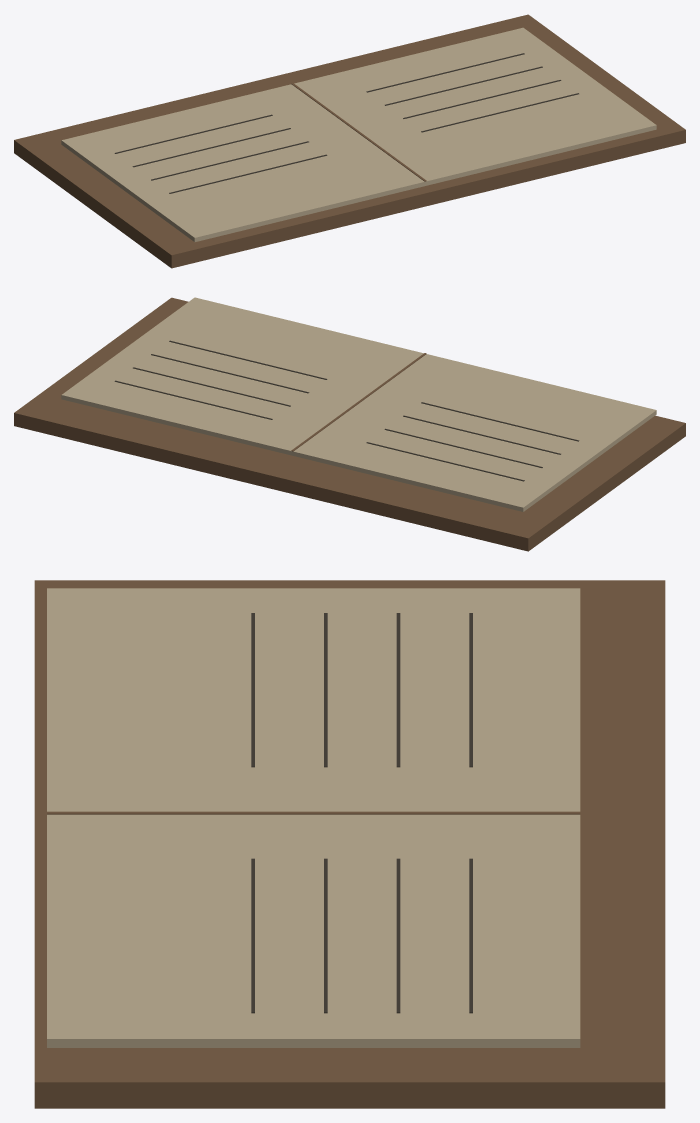
File: station_merrow.glb
3 views of the same model, one above another, from view 1: azimuth 30°, elevation 25°; view 2: azimuth 150°, elevation 25°; view 3: azimuth 270°, elevation 25° (orthographic). The views are drawn at different scales.
Parts seen in each view (by area): view 1: WorkContactPart, ReceiptBacking, ReceiptDivide; view 2: WorkContactPart, ReceiptBacking, ReceiptDivide; view 3: WorkContactPart, ReceiptBacking, ReceiptDivide.
Part boxes in pixels (box(x1,y1,x2,y2)): WorkContactPart: box(61, 27, 656, 241); ReceiptBacking: box(14, 14, 685, 268); ReceiptDivide: box(291, 83, 426, 181); WorkContactPart: box(61, 297, 656, 511); ReceiptBacking: box(14, 297, 685, 551); ReceiptDivide: box(291, 353, 426, 451); WorkContactPart: box(47, 588, 580, 1047); ReceiptBacking: box(34, 580, 665, 1108); ReceiptDivide: box(47, 811, 580, 814).
Bounding box in the file's own units: 0.49 × 0.0206 × 0.26.
